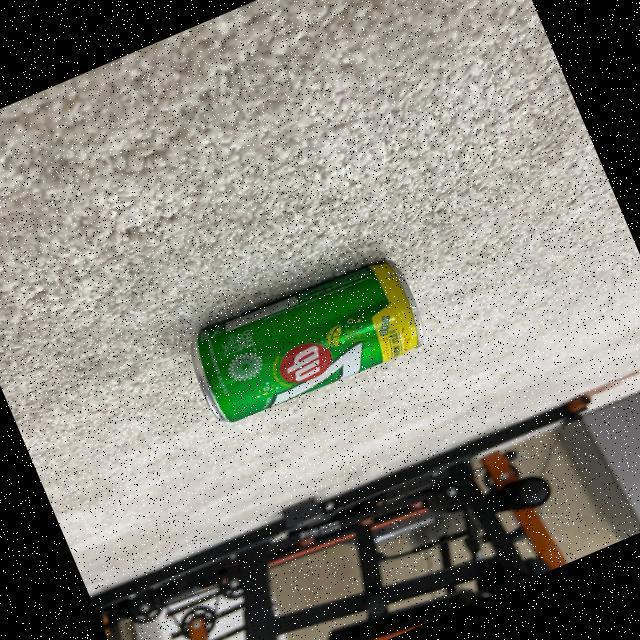Kaleng: (192, 258, 419, 423)
